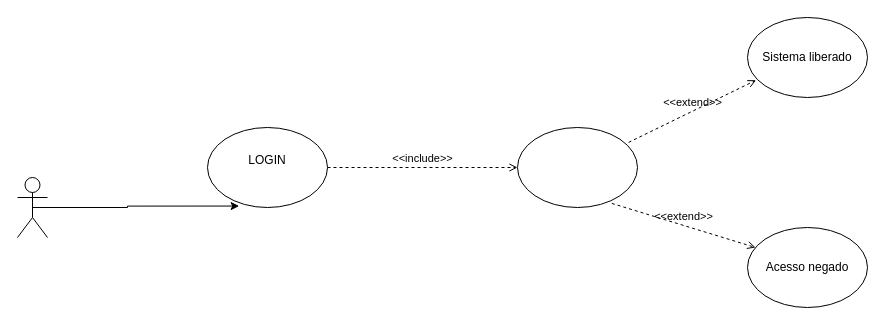
The diagram is 885 pixels wide and 325 high, and some of its shapes have lost their labels. The shapes that lost their labels are listed below. From the top down, each one's centre as x and y in pixels, then its label:
pixel 577 167: Informar dados
pixel 32 207: ADM
